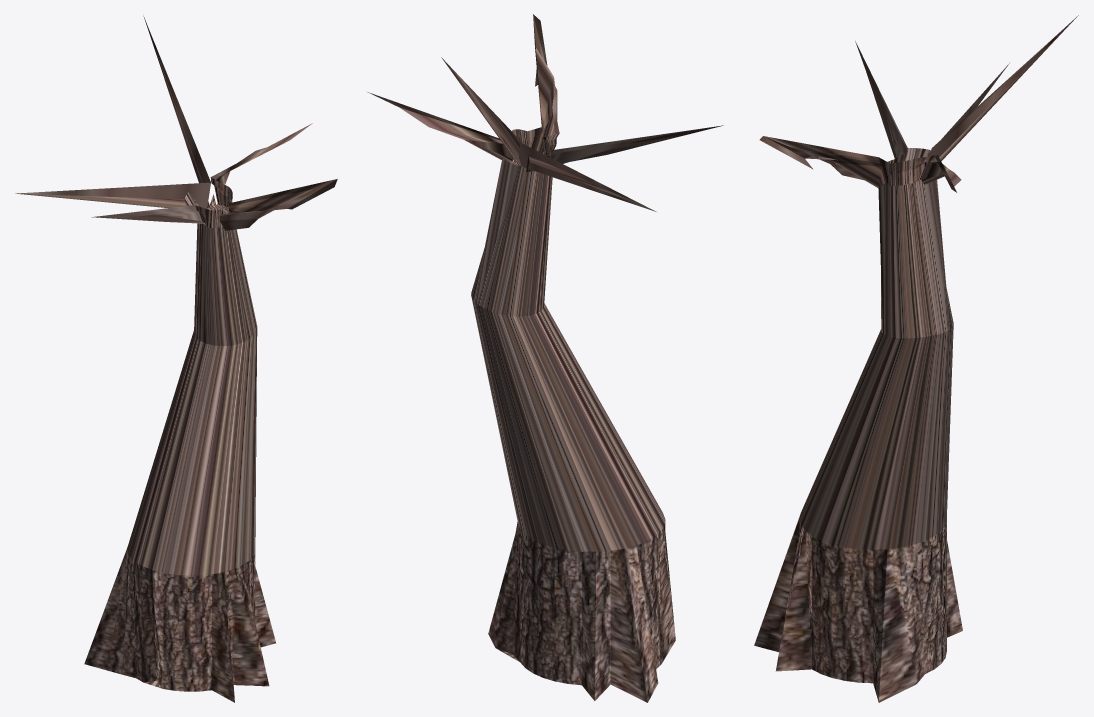
The model's file is trunk.glb.
3 views of the same model, side by side, from view 1: azimuth 30°, elevation 25°; view 2: azimuth 150°, elevation 25°; view 3: azimuth 270°, elevation 25° (orthographic). The views are drawn at different scales.
Visible parts, largest first — view 1: Trunk.col; view 2: Trunk.col; view 3: Trunk.col.
Part boxes in pixels (x1,y1,x2,y2): Trunk.col: (15, 16, 337, 702); Trunk.col: (367, 14, 723, 702); Trunk.col: (754, 15, 1078, 702).
Size of the model in its own units: 4.98 by 9.94 by 4.42.
1 material, 1 textured.
